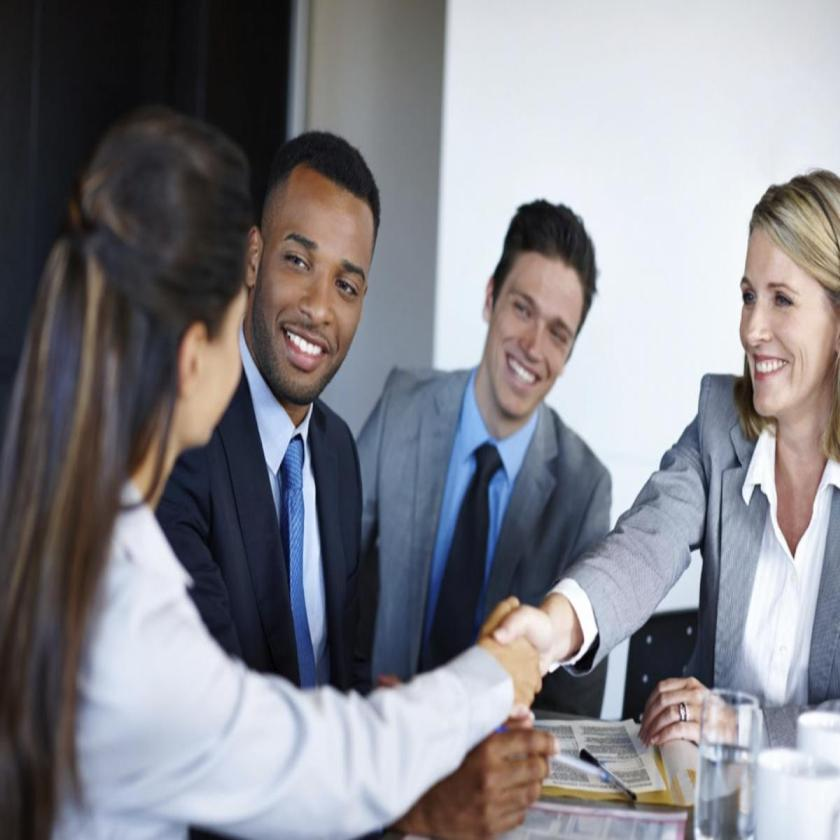Sin_casco: (67, 104, 255, 464), (259, 122, 379, 430), (481, 189, 599, 429), (735, 158, 840, 419)
